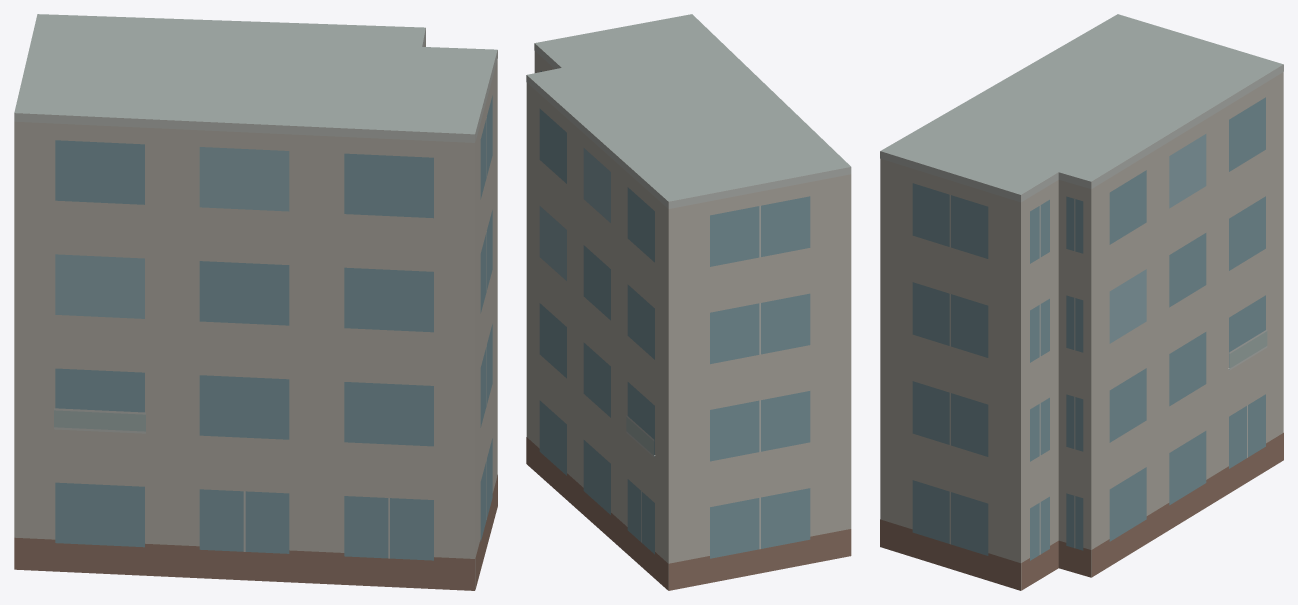
The model's file is survey-upis-32983419.glb.
The picture shows the model from 3 angles, left to right: view 1: azimuth 30°, elevation 25°; view 2: azimuth 150°, elevation 25°; view 3: azimuth 270°, elevation 25°; orthographic projection. The views are drawn at different scales.
Parts seen in each view (by area): view 1: survey-upis-32983419.tmp; view 2: survey-upis-32983419.tmp; view 3: survey-upis-32983419.tmp.
Part boxes in pixels (<box>): survey-upis-32983419.tmp: <box>14,14,497,590</box>; survey-upis-32983419.tmp: <box>526,14,851,590</box>; survey-upis-32983419.tmp: <box>880,14,1283,590</box>.
Size of the model in its own units: 12.66 by 12.9 by 11.93.
